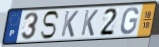2: (98, 7, 120, 37)
3: (20, 11, 40, 41)
G: (119, 7, 140, 36)
K: (79, 9, 100, 37), (60, 10, 80, 38)
S: (39, 10, 61, 41)
